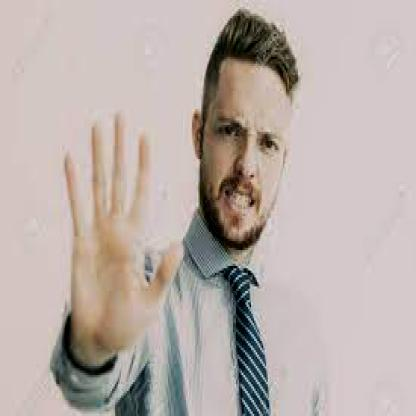Stop: (49, 95, 187, 362)
